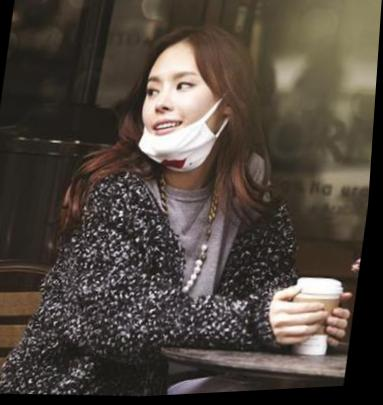WRONG: (133, 66, 234, 171)
